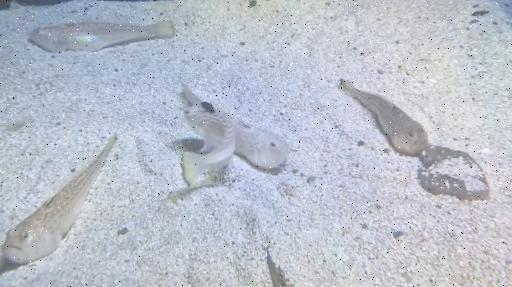Fish: (0, 134, 117, 265), (339, 79, 431, 156), (215, 107, 290, 169), (30, 20, 175, 52), (182, 102, 235, 186), (266, 247, 289, 286)
